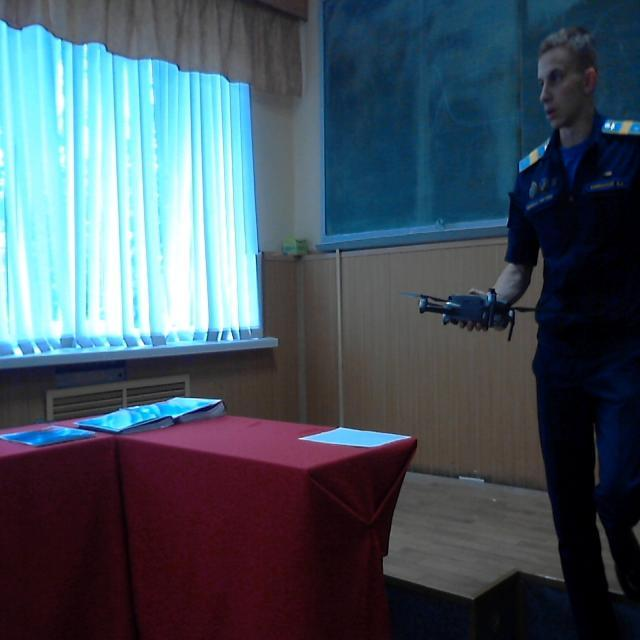drones: (405, 270, 536, 350)
